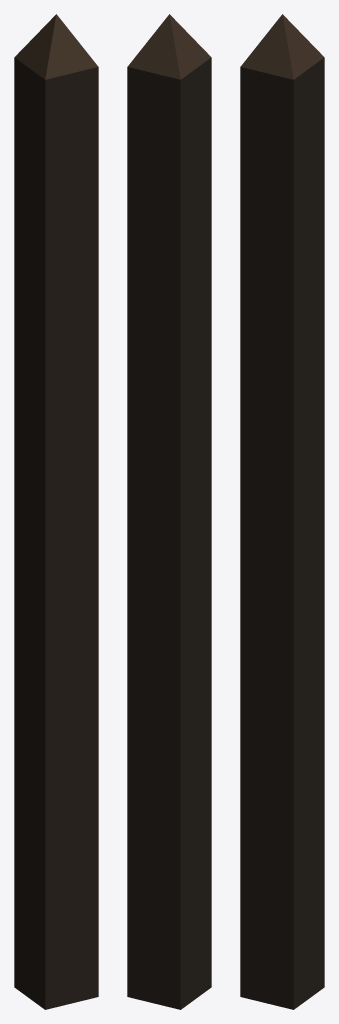
Rendered from FencePost_Tall.fbx.
The picture shows the model from 3 angles, left to right: view 1: azimuth 30°, elevation 25°; view 2: azimuth 150°, elevation 25°; view 3: azimuth 330°, elevation 25°; orthographic projection.
Parts seen in each view (by area): view 1: Cube.002; view 2: Cube.002; view 3: Cube.002.
Part boxes in pixels (box(x1,y1,x2,y2)): Cube.002: box(14, 14, 98, 1009); Cube.002: box(127, 14, 211, 1009); Cube.002: box(240, 14, 324, 1009).
Bounding box in the file's own units: 15 × 263 × 15.
